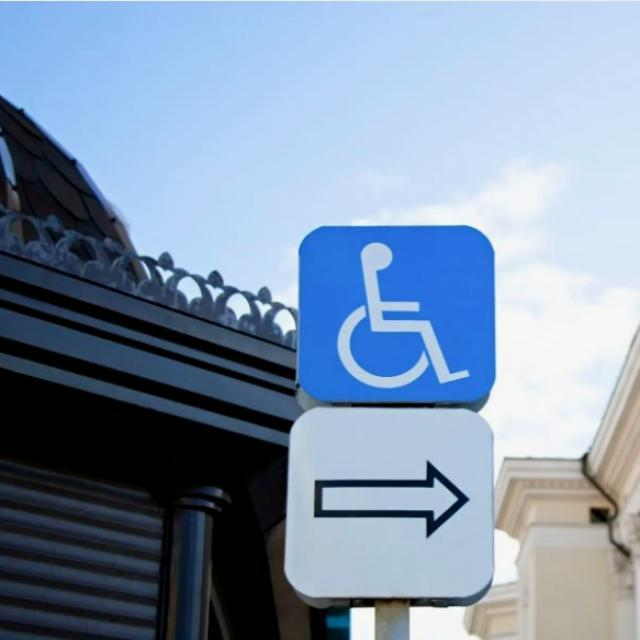symbol_of_access: (295, 223, 495, 406)
